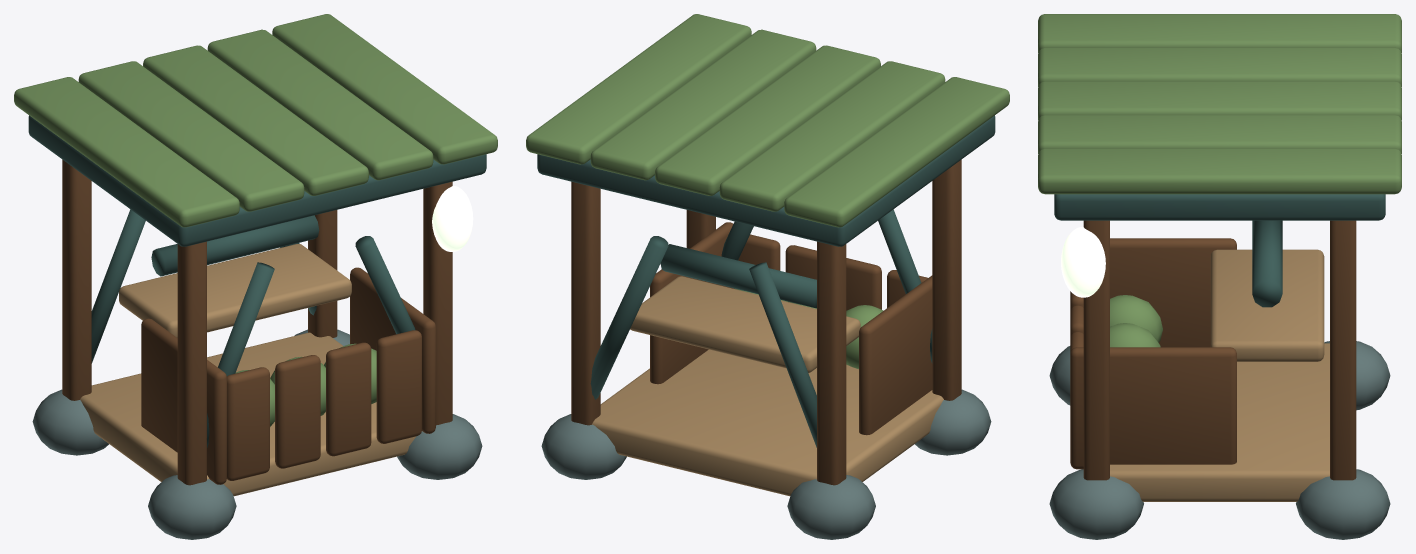
The model's file is extractor_wood.glb.
3 renders of one model, left to right at view 1: azimuth 30°, elevation 25°; view 2: azimuth 150°, elevation 25°; view 3: azimuth 270°, elevation 25°, orthographic. The views are drawn at different scales.
Visible parts, largest first — view 1: extractor_wood_part_0; view 2: extractor_wood_part_0; view 3: extractor_wood_part_0.
Part boxes in pixels (<box>): extractor_wood_part_0: <box>14,14,497,539</box>; extractor_wood_part_0: <box>526,14,1009,539</box>; extractor_wood_part_0: <box>1038,14,1401,539</box>.
Size of the model in its own units: 2.1 by 2.18 by 1.92.
